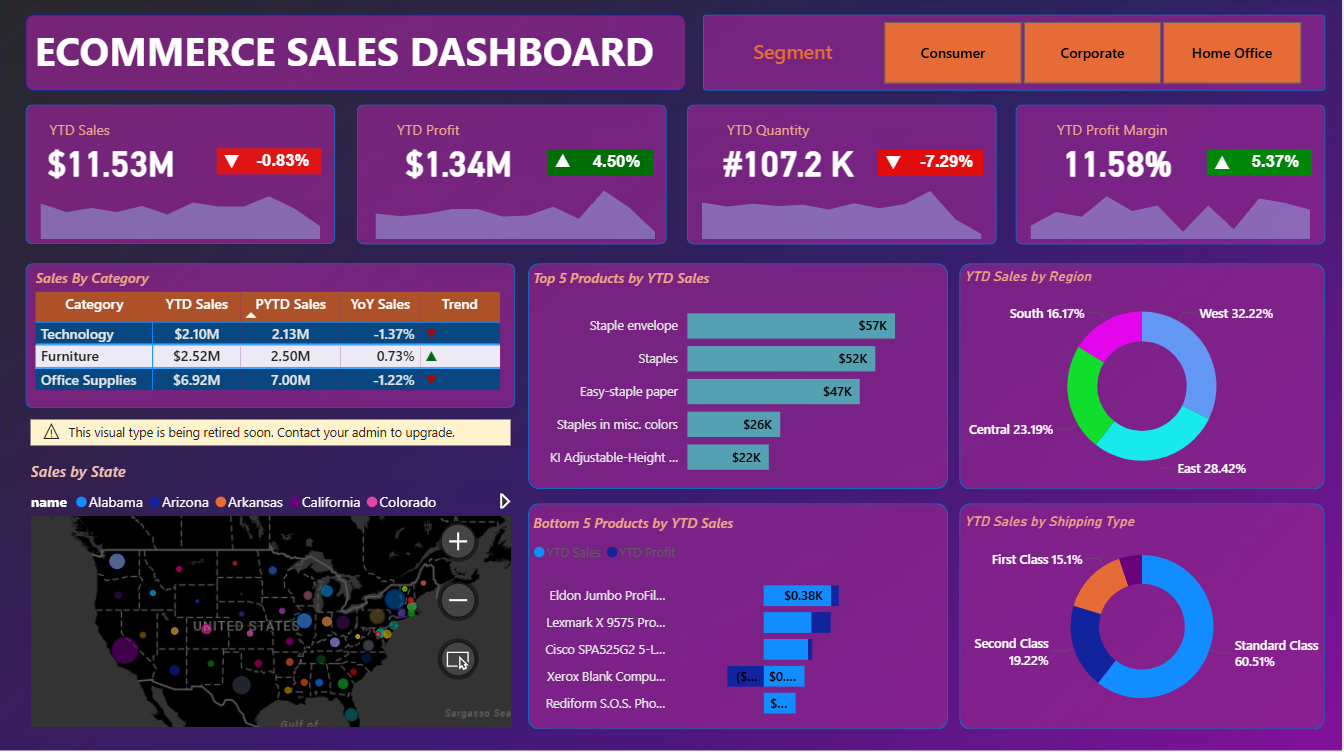

The dashboard page shown, as its layout file describes it:
{"tool":"powerbi","page":{"name":"Page 1","canvas":[1280,720],"ordinal":0},"visuals":[{"type":"textbox","box":[25.9,17.2,629,72.6],"z":0},{"type":"shape","box":[26.1,102.9,295,133.1],"z":1000},{"type":"card","fields":{"Values":["ecommerce_data.YTD Sales"]},"box":[26.2,132.1,163.1,50],"z":2000},{"type":"areaChart","fields":{"Category":["Calendar.Month"],"Y":["Sum(ecommerce_data.sales_per_order)"]},"box":[26.2,169,295.2,66.7],"z":3000},{"type":"shape","box":[208.3,144,100,25],"z":4000},{"type":"card","fields":{"Values":["ecommerce_data.YoY Sales"]},"box":[236.9,139.3,69,35.7],"z":5000},{"type":"card","fields":{"Values":["ecommerce_data.Sales Icon"]},"box":[208.3,144,28.6,27.4],"z":6000},{"type":"textbox","box":[44,111.9,82.1,27.4],"z":7000},{"type":"shape","box":[341.7,102.4,295.2,133.3],"z":8000},{"type":"card","fields":{"Values":["ecommerce_data.YTD Profit"]},"box":[357.1,131.7,163.1,50],"z":9000},{"type":"areaChart","fields":{"Category":["Calendar.Month"],"Y":["Sum(ecommerce_data.profit_per_order)"]},"box":[345.2,169,295.2,66.7],"z":10000},{"type":"shape","box":[523.8,145.2,100,25],"z":11000},{"type":"card","fields":{"Values":["ecommerce_data.YoY Profit"]},"box":[554.8,140.5,69,35.7],"z":12000},{"type":"card","fields":{"Values":["ecommerce_data.Profit Icon"]},"box":[523.8,142.9,28.6,27.4],"z":13000},{"type":"textbox","box":[375,111.4,82.1,27.4],"z":14000},{"type":"shape","box":[655.5,102.9,295.2,133.3],"z":15000},{"type":"card","fields":{"Values":["ecommerce_data.YTD  Concatenated Qty"]},"box":[671,132.1,163.1,50],"z":16000},{"type":"areaChart","fields":{"Category":["Calendar.Month"],"Y":["Sum(ecommerce_data.order_quantity)"]},"box":[656,169,295.2,66.7],"z":17000},{"type":"shape","box":[837.6,145.7,100,25],"z":18000},{"type":"card","fields":{"Values":["ecommerce_data.YoY Qty"]},"box":[868.6,141,69,35.7],"z":19000},{"type":"card","fields":{"Values":["ecommerce_data.Qty Icon"]},"box":[837.1,145.3,32,28.3],"z":20000},{"type":"textbox","box":[689.3,111.9,96.4,27.4],"z":21000},{"type":"shape","box":[969.3,102.4,295.2,133.3],"z":22000},{"type":"card","fields":{"Values":["ecommerce_data.YTD Profit Margin"]},"box":[984.8,131.7,163.1,50],"z":23000},{"type":"areaChart","fields":{"Category":["Calendar.Month"],"Y":["ecommerce_data.Profit Margin"]},"box":[969.1,169,295.2,66.7],"z":24000},{"type":"shape","box":[1151.4,145.2,100,25],"z":25000},{"type":"card","fields":{"Values":["ecommerce_data.YoY Profit Margin"]},"box":[1182.4,140.5,69,35.7],"z":26000},{"type":"card","fields":{"Values":["ecommerce_data.Profit Margin Icon"]},"box":[1151,145.3,29.5,27.1],"z":27000},{"type":"textbox","box":[1003.6,111.9,128.6,27.4],"z":28000},{"type":"shape","box":[25.9,253.6,466.6,137.9],"z":29000},{"type":"pivotTable","title":"Sales By Category","fields":{"Rows":["ecommerce_data.category_name"],"Values":["ecommerce_data.YTD Sales","ecommerce_data.PYTD Sales","ecommerce_data.YoY Sales","ecommerce_data.Sales Icon"]},"box":[30.8,258.5,457.9,128],"z":30000},{"type":"shape","box":[915.9,482.6,348.4,215.4],"z":31000},{"type":"shape","box":[504.7,253.6,400,215],"z":32000},{"type":"shape","box":[504.7,482.6,400.1,215.4],"z":33000},{"type":"barChart","title":"Top 5 Products by YTD Sales","fields":{"Category":["ecommerce_data.product_name"],"Y":["ecommerce_data.YTD Sales"]},"box":[504.7,258.5,398.8,210.5],"z":34000},{"type":"barChart","title":"Bottom 5 Products by YTD Sales","fields":{"Category":["ecommerce_data.product_name"],"Y":["ecommerce_data.YTD Sales","ecommerce_data.YTD Profit"]},"box":[504.7,491.2,398.8,206.8],"z":35000},{"type":"shape","box":[915.9,253.6,348.4,215.4],"z":36000},{"type":"donutChart","title":"YTD Sales by Region","fields":{"Category":["ecommerce_data.customer_region"],"Y":["ecommerce_data.YTD Sales"]},"box":[915.9,258.5,348.4,210.5],"z":37000},{"type":"donutChart","title":"YTD Sales by Shipping Type","fields":{"Y":["ecommerce_data.YTD Sales"],"Category":["ecommerce_data.shipping_type"]},"box":[915.9,491.2,348.4,201.9],"z":38000},{"type":"shape","box":[670.9,17.2,609.3,72.6],"z":39000},{"type":"slicer","fields":{"Values":["ecommerce_data.customer_segment"]},"box":[817.4,17.2,446.9,72.6],"z":40000},{"type":"textbox","box":[714,34.5,103.4,39.4],"z":41000},{"type":"map","title":"Sales by State","fields":{"Y":["us_state_long_lat_codes.latitude"],"X":["us_state_long_lat_codes.longitude"],"Size":["ecommerce_data.YTD Sales"],"Series":["us_state_long_lat_codes.name"]},"box":[26.2,402.4,466.7,291.7],"z":41001}]}

Visuals, with their boxes in screenshot pixels (x1, y1, x2, y2), scaled from the page's 1280x720 canvas onto the 1344x752 screenshot:
textbox: 27:18:688:94
shape: 27:107:337:246
card - ecommerce_data.YTD Sales: 28:138:199:190
areaChart - Calendar.Month x Sum(ecommerce_data.sales_per_order): 28:177:337:246
shape: 219:150:324:177
card - ecommerce_data.YoY Sales: 249:145:321:183
card - ecommerce_data.Sales Icon: 219:150:249:179
textbox: 46:117:132:145
shape: 359:107:669:246
card - ecommerce_data.YTD Profit: 375:138:546:190
areaChart - Calendar.Month x Sum(ecommerce_data.profit_per_order): 362:177:672:246
shape: 550:152:655:178
card - ecommerce_data.YoY Profit: 583:147:655:184
card - ecommerce_data.Profit Icon: 550:149:580:178
textbox: 394:116:480:145
shape: 688:107:998:247
card - ecommerce_data.YTD  Concatenated Qty: 705:138:876:190
areaChart - Calendar.Month x Sum(ecommerce_data.order_quantity): 689:177:999:246
shape: 879:152:984:178
card - ecommerce_data.YoY Qty: 912:147:984:185
card - ecommerce_data.Qty Icon: 879:152:913:181
textbox: 724:117:825:145
shape: 1018:107:1328:246
card - ecommerce_data.YTD Profit Margin: 1034:138:1205:190
areaChart - Calendar.Month x ecommerce_data.Profit Margin: 1018:177:1328:246
shape: 1209:152:1314:178
card - ecommerce_data.YoY Profit Margin: 1242:147:1314:184
card - ecommerce_data.Profit Margin Icon: 1209:152:1240:180
textbox: 1054:117:1189:145
shape: 27:265:517:409
"Sales By Category" pivotTable: 32:270:513:404
shape: 962:504:1328:729
shape: 530:265:950:489
shape: 530:504:950:729
"Top 5 Products by YTD Sales" barChart: 530:270:949:490
"Bottom 5 Products by YTD Sales" barChart: 530:513:949:729
shape: 962:265:1328:490
"YTD Sales by Region" donutChart: 962:270:1328:490
"YTD Sales by Shipping Type" donutChart: 962:513:1328:724
shape: 704:18:1343:94
slicer - ecommerce_data.customer_segment: 858:18:1328:94
textbox: 750:36:858:77
"Sales by State" map: 28:420:518:725
